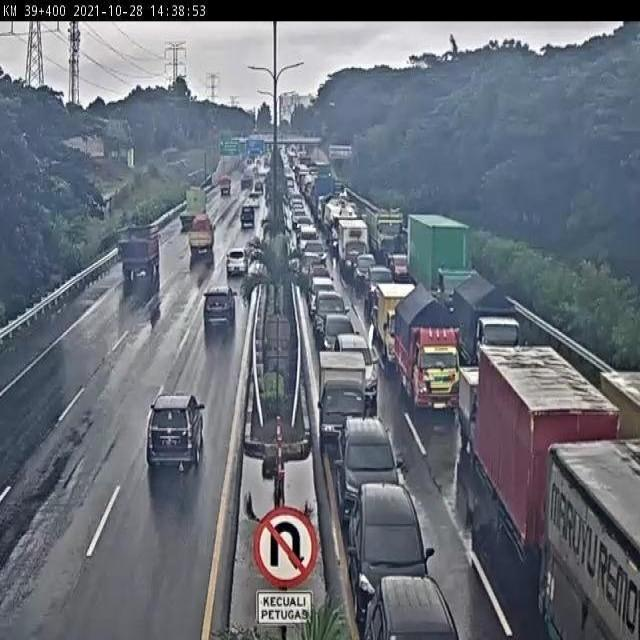Car: (346, 482, 435, 629), (337, 418, 403, 524), (362, 571, 460, 640), (146, 392, 204, 471), (333, 333, 376, 406), (318, 311, 360, 356), (312, 290, 348, 339), (201, 286, 237, 331), (363, 264, 395, 310), (352, 250, 377, 295), (308, 275, 337, 313), (305, 262, 333, 288), (302, 250, 325, 277), (298, 226, 320, 252), (226, 250, 248, 276), (306, 242, 328, 264), (246, 192, 260, 208), (254, 179, 264, 194)
Truck: (472, 340, 624, 568), (542, 441, 639, 636), (391, 289, 463, 413), (449, 272, 520, 365), (317, 348, 367, 458), (407, 214, 469, 294), (374, 280, 422, 374), (600, 367, 640, 443), (456, 364, 487, 454), (116, 221, 162, 281), (332, 215, 370, 282), (322, 195, 359, 249), (372, 209, 406, 262), (187, 213, 216, 260), (179, 187, 208, 233), (313, 175, 336, 222), (240, 206, 255, 230), (218, 176, 231, 196), (241, 173, 252, 190)
